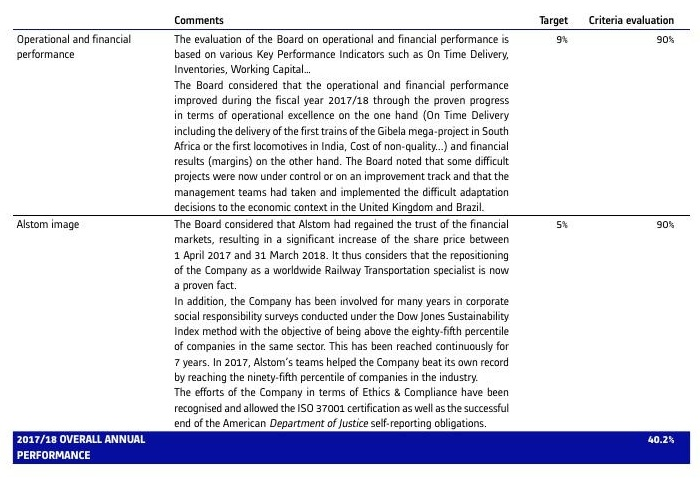table: (0, 0, 700, 479)
